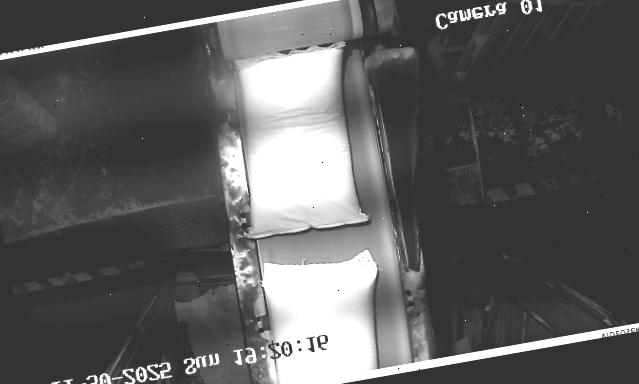bag: (216, 38, 379, 241), (259, 244, 395, 384)
